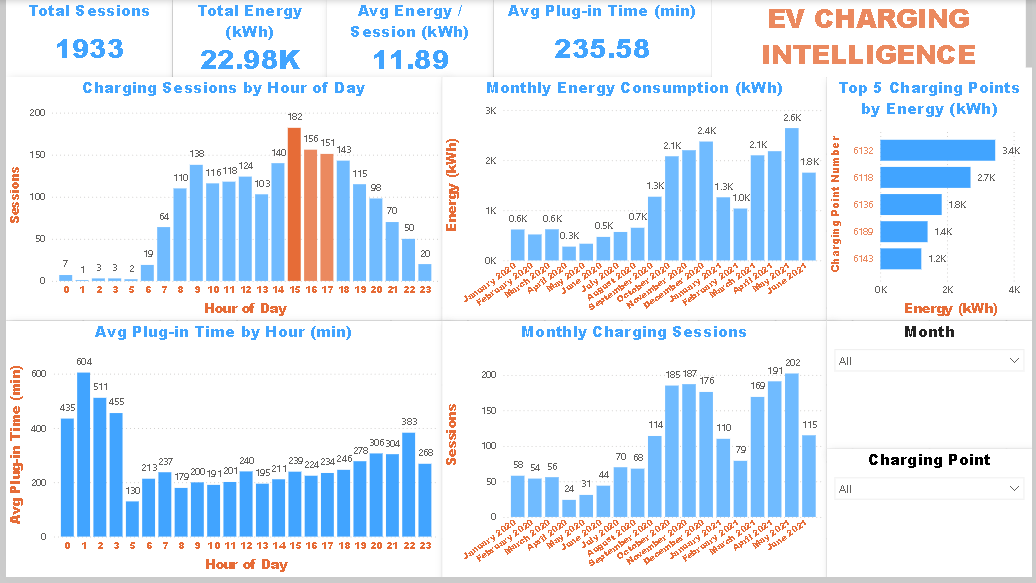

Layout of this report page (visuals, bound fields, positions):
{"tool":"powerbi","page":{"name":"EV Charging Overview","canvas":[1280,720],"ordinal":0},"visuals":[{"type":"card","title":"Total Sessions","fields":{"Values":["CountNonNull(ev_charging_db ev_charging.Charging_Point_Number)"]},"box":[0,0,208,96],"z":0},{"type":"card","title":"Total Energy (kWh)","fields":{"Values":["Sum(ev_charging_db ev_charging.Energy_kWh)"]},"box":[208,0,192,96],"z":1000},{"type":"card","title":"Avg Energy / Session (kWh)","fields":{"Values":["Avg(ev_charging_db ev_charging.Energy_kWh)"]},"box":[400,0,208,96],"z":2000},{"type":"card","title":"Avg Plug-in Time (min)","fields":{"Values":["Avg(ev_charging_db ev_charging.Charging_Duration_Min)"]},"box":[608,0,272,96],"z":3000},{"type":"clusteredColumnChart","title":"Charging Sessions by Hour of Day","fields":{"Category":["ev_charging_db ev_charging.Charging_Hour"],"Y":["CountNonNull(ev_charging_db ev_charging.Charging_Point_Number)"]},"box":[0,96,544,304],"z":4000},{"type":"clusteredColumnChart","title":"Monthly Energy Consumption (kWh)","fields":{"Y":["Sum(ev_charging_db ev_charging.Energy_kWh)"],"Category":["ev_charging_db ev_charging.Month Date.Variation.Date Hierarchy.Year"]},"box":[544,96,480,304],"z":5000},{"type":"clusteredColumnChart","title":"Avg Plug-in Time by Hour (min)","fields":{"Category":["ev_charging_db ev_charging.Charging_Hour"],"Y":["Avg(ev_charging_db ev_charging.Charging_Duration_Min)"]},"box":[0,400,544,320],"z":6000},{"type":"clusteredBarChart","title":"Top 5 Charging Points by Energy (kWh)","fields":{"Y":["Sum(ev_charging_db ev_charging.Energy_kWh)"],"Category":["ev_charging_db ev_charging.Charging_Point_Number"]},"box":[1024,96,256,304],"z":7000},{"type":"clusteredColumnChart","title":"Monthly Charging Sessions","fields":{"Y":["CountNonNull(ev_charging_db ev_charging.Charging_Point_Number)"],"Category":["ev_charging_db ev_charging.Month Date"]},"box":[544,400,480,320],"z":8000},{"type":"textbox","box":[880,0,400,96],"z":9000},{"type":"slicer","title":"Month","fields":{"Values":["ev_charging_db ev_charging.Month"]},"box":[1024,400,256,160],"z":10000},{"type":"slicer","title":"Charging Point","fields":{"Values":["ev_charging_db ev_charging.Charging_Point_Number"]},"box":[1024,560,256,160],"z":11000}]}

Visuals, with their boxes in screenshot pixels (x1, y1, x2, y2), scaled from the page's 1280x720 canvas onto the 1036x583 screenshot:
"Total Sessions" card: (0,0,168,78)
"Total Energy (kWh)" card: (168,0,324,78)
"Avg Energy / Session (kWh)" card: (324,0,492,78)
"Avg Plug-in Time (min)" card: (492,0,712,78)
"Charging Sessions by Hour of Day" clusteredColumnChart: (0,78,440,324)
"Monthly Energy Consumption (kWh)" clusteredColumnChart: (440,78,829,324)
"Avg Plug-in Time by Hour (min)" clusteredColumnChart: (0,324,440,582)
"Top 5 Charging Points by Energy (kWh)" clusteredBarChart: (829,78,1035,324)
"Monthly Charging Sessions" clusteredColumnChart: (440,324,829,582)
textbox: (712,0,1035,78)
"Month" slicer: (829,324,1035,453)
"Charging Point" slicer: (829,453,1035,582)
